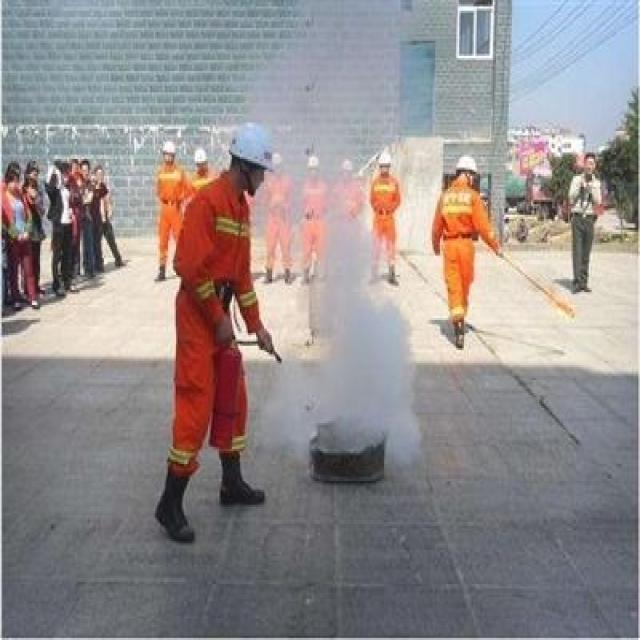Smoke: (235, 2, 424, 477)
